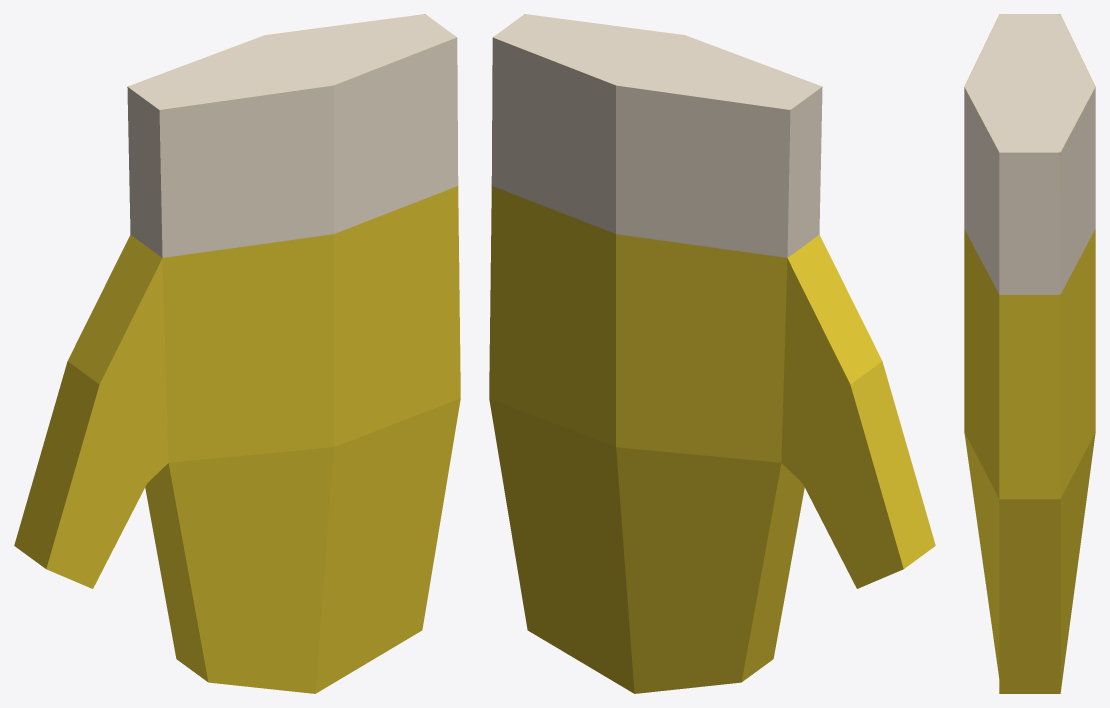
Rendered from ovenGlove4_PLY.fbx.
3 renders of one model, left to right at view 1: azimuth 30°, elevation 25°; view 2: azimuth 150°, elevation 25°; view 3: azimuth 270°, elevation 25°, orthographic. The views are drawn at different scales.
Visible parts, largest first — view 1: ovenGlove4_PLY; view 2: ovenGlove4_PLY; view 3: ovenGlove4_PLY.
Boxes of the visible parts, x1,y1,x2,y2 form: ovenGlove4_PLY: [14, 14, 460, 693]; ovenGlove4_PLY: [489, 14, 935, 693]; ovenGlove4_PLY: [964, 14, 1095, 693].
Size of the model in its own units: 0.8493 by 1.22 by 0.2444.
